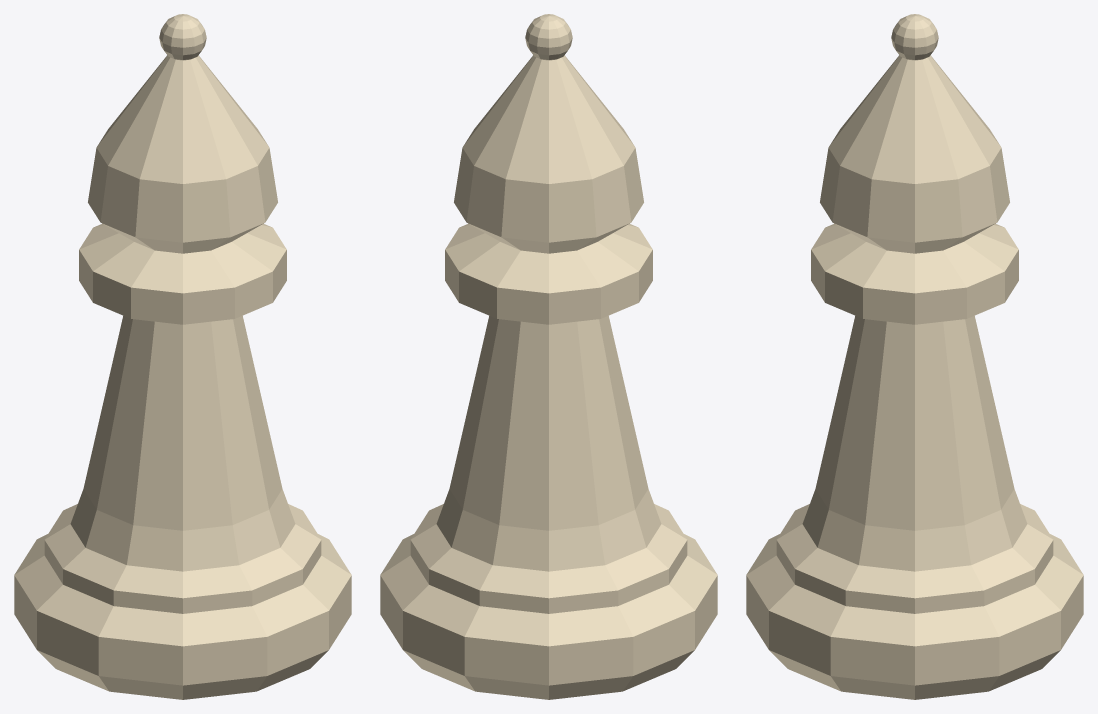
The model's file is bishop.glb.
3 renders of one model, left to right at view 1: azimuth 30°, elevation 25°; view 2: azimuth 150°, elevation 25°; view 3: azimuth 270°, elevation 25°, orthographic.
Visible parts, largest first — view 1: bishop; view 2: bishop; view 3: bishop.
Part boxes in pixels (x1,y1,x2,y2): bishop: (14, 14, 351, 699); bishop: (380, 14, 717, 699); bishop: (746, 14, 1083, 699).
Bounding box in the file's own units: 0.78 × 1.59 × 0.78.
